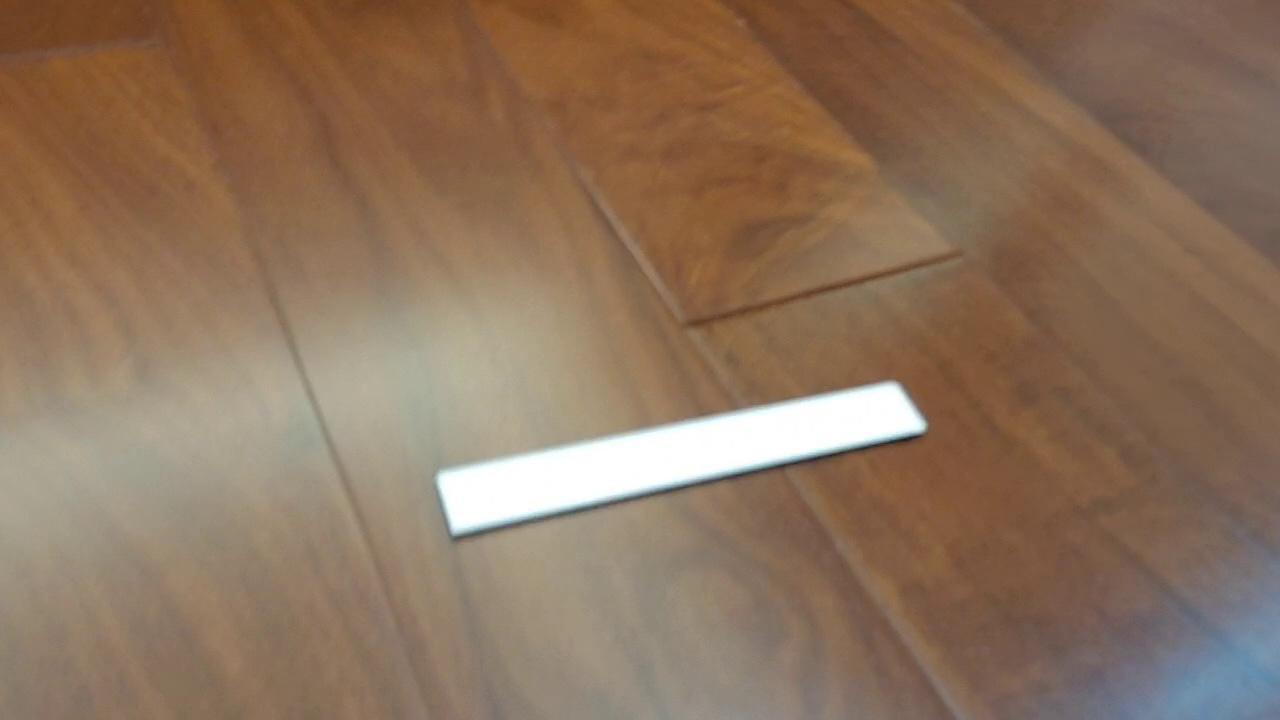ruler: (433, 378, 929, 542)
